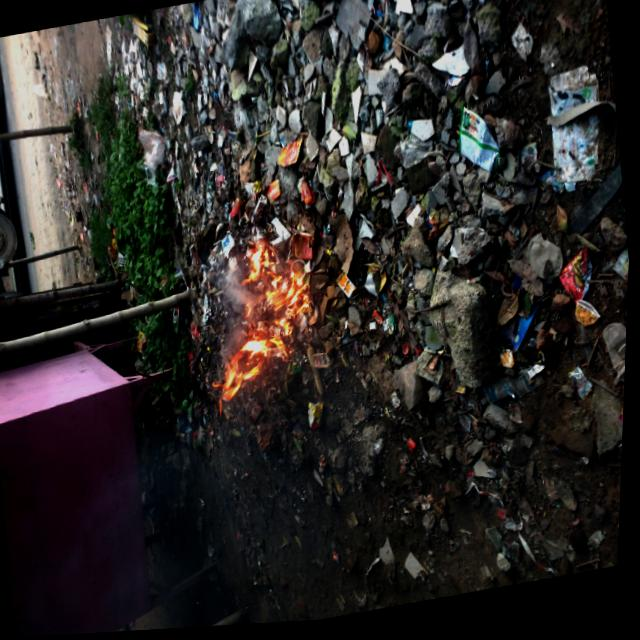helmet: (199, 241, 325, 416)
